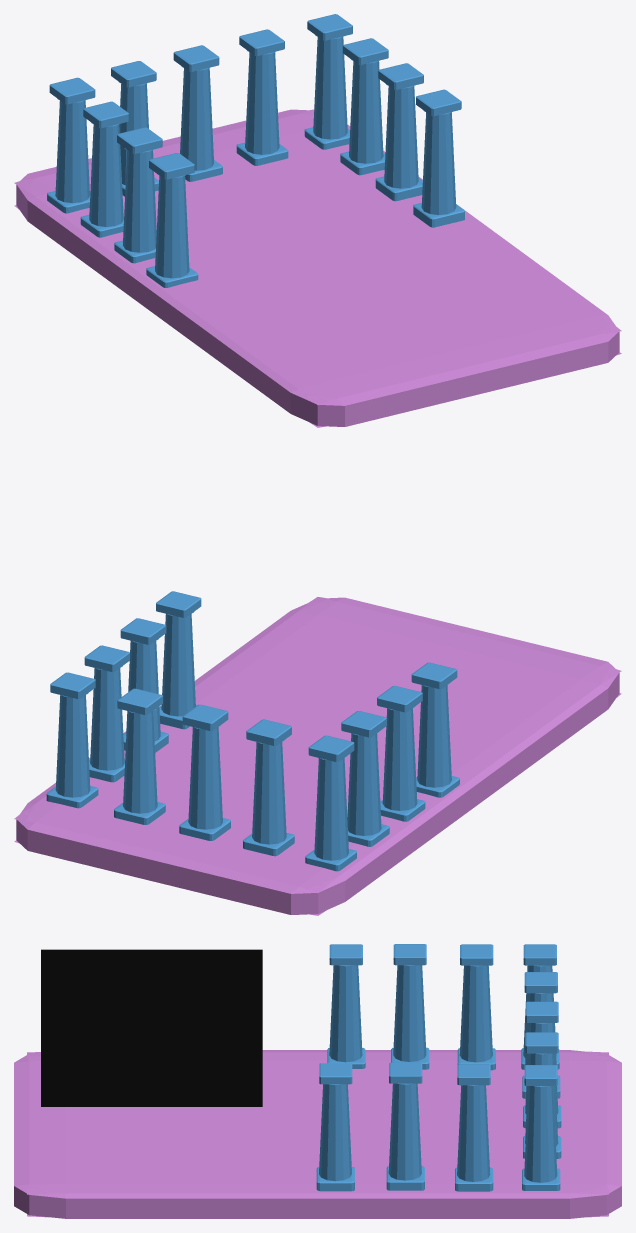
File: Float3.fbx
The picture shows the model from 3 angles, top to bottom: view 1: azimuth 30°, elevation 25°; view 2: azimuth 150°, elevation 25°; view 3: azimuth 270°, elevation 25°; orthographic projection. The views are drawn at different scales.
Parts seen in each view (by area): view 1: Cube; view 2: Cube; view 3: Cube.
Part boxes in pixels (x1,y1,x2,y2): Cube: (14, 14, 621, 427); Cube: (14, 591, 621, 915); Cube: (14, 944, 621, 1218).
Bounding box in the file's own units: 615 × 383 × 1064.
